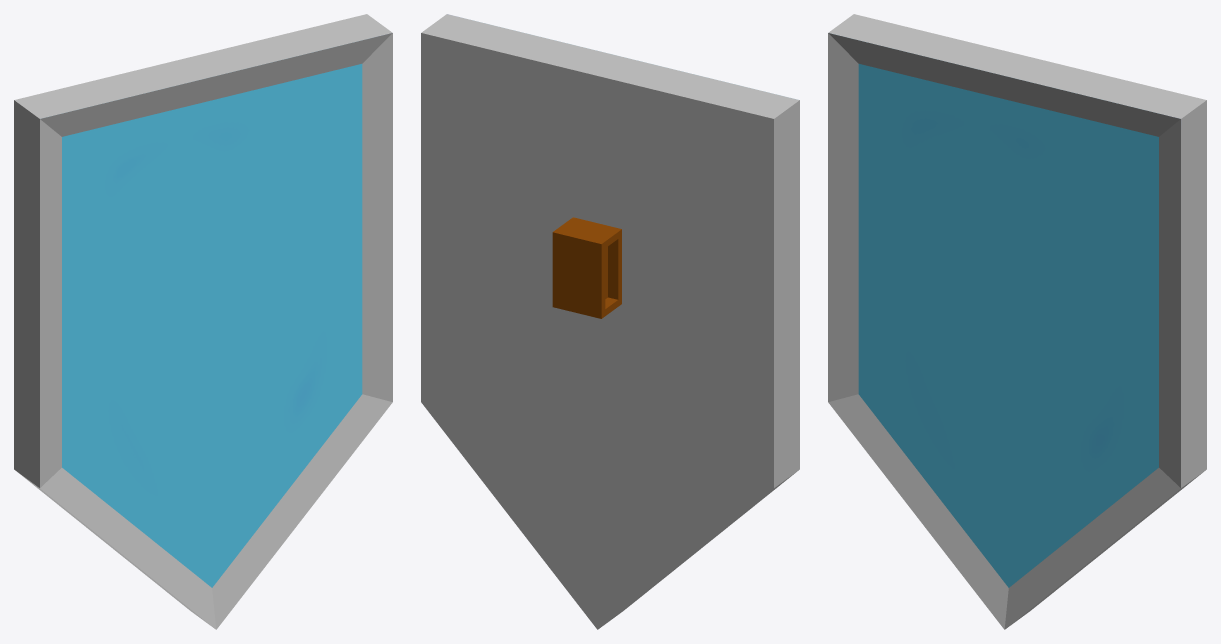
File: LabGroupShield.fbx
The picture shows the model from 3 angles, left to right: view 1: azimuth 30°, elevation 25°; view 2: azimuth 150°, elevation 25°; view 3: azimuth 330°, elevation 25°; orthographic projection.
Visible parts, largest first — view 1: Cube; view 2: Cube; view 3: Cube.
Part boxes in pixels (box(x1,y1,x2,y2)): Cube: box(14, 14, 392, 629); Cube: box(421, 14, 799, 629); Cube: box(828, 14, 1206, 629).
Size of the model in its own units: 200 by 300 by 45.49.
Materials: 1 (1 with a texture image).
